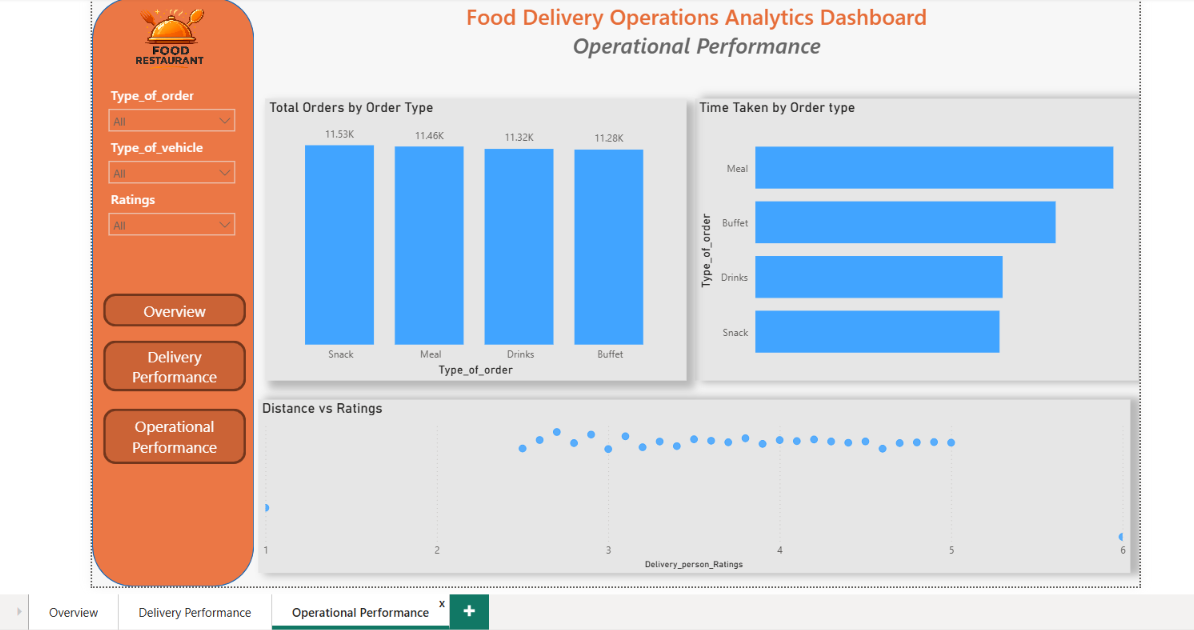

This screenshot's page, from the dashboard's own definition file:
{"tool":"powerbi","page":{"name":"Operational Performance","canvas":[1280,720],"ordinal":2},"visuals":[{"type":"shape","box":[0,0,197.9,720.2],"z":0},{"type":"slicer","fields":{"Values":["Food_delivery_time_data.Type_of_order"]},"box":[10.1,102.4,174.6,63.5],"z":0,"group":"g1"},{"type":"textbox","box":[198.1,0,1082.2,88],"z":1000},{"type":"slicer","fields":{"Values":["Food_delivery_time_data.Type_of_vehicle"]},"box":[10.1,165.9,174.6,63.5],"z":1000,"group":"g1"},{"type":"slicer","fields":{"Values":["Food_delivery_time_data.Delivery_person_Ratings"]},"box":[10.1,229.4,174.6,63.5],"z":2000,"group":"g1"},{"type":"clusteredBarChart","title":"Time Taken by Order type","fields":{"Y":["Sum(Food_delivery_time_data.Time_taken(min))"],"Category":["Food_delivery_time_data.Type_of_order"]},"box":[737.3,124.1,542.5,344.8],"z":7000},{"type":"scatterChart","title":"Distance vs Ratings","fields":{"Y":["Avg(Food_delivery_time_data.Restaurant_latitude)"],"X":["Food_delivery_time_data.Delivery_person_Ratings"]},"box":[203.4,492,1066.2,212.1],"z":9000},{"type":"columnChart","title":"Total Orders by Order Type","fields":{"Category":["Food_delivery_time_data.Type_of_order"],"Y":["CountNonNull(Food_delivery_time_data.ID)"]},"box":[212.1,124.1,515.1,344.8],"z":10000},{"type":"group","id":"g1","title":"Group 1","box":[10.1,102.4,174.6,190.4],"z":12000},{"type":"actionButton","box":[13,362.1,174.6,40.4],"z":13000},{"type":"actionButton","box":[13,419.8,174.6,62],"z":14000},{"type":"actionButton","box":[13,502.1,174.6,67.8],"z":15000},{"type":"image","box":[31.7,14.4,131.3,73.6],"z":16000}]}

Visuals, with their boxes on the page's 1280x720 design canvas (x1, y1, x2, y2). These are canvas units, not pixel positions in the 1194x630 screenshot, which may show the page scaled, cropped or inside an application window:
shape: <region>0, 0, 198, 720</region>
slicer - Food_delivery_time_data.Type_of_order: <region>10, 102, 185, 166</region>
textbox: <region>198, 0, 1280, 88</region>
slicer - Food_delivery_time_data.Type_of_vehicle: <region>10, 166, 185, 229</region>
slicer - Food_delivery_time_data.Delivery_person_Ratings: <region>10, 229, 185, 293</region>
"Time Taken by Order type" clusteredBarChart: <region>737, 124, 1280, 469</region>
"Distance vs Ratings" scatterChart: <region>203, 492, 1270, 704</region>
"Total Orders by Order Type" columnChart: <region>212, 124, 727, 469</region>
"Group 1" group: <region>10, 102, 185, 293</region>
actionButton: <region>13, 362, 188, 402</region>
actionButton: <region>13, 420, 188, 482</region>
actionButton: <region>13, 502, 188, 570</region>
image: <region>32, 14, 163, 88</region>
